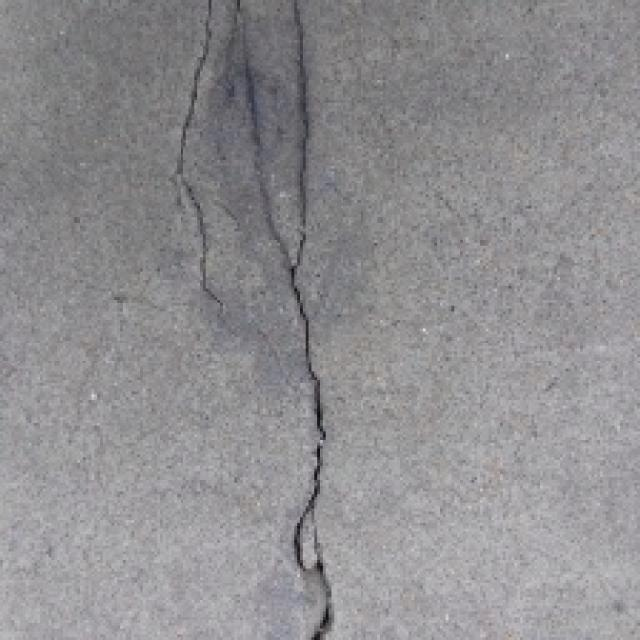crack: (168, 0, 378, 640)
